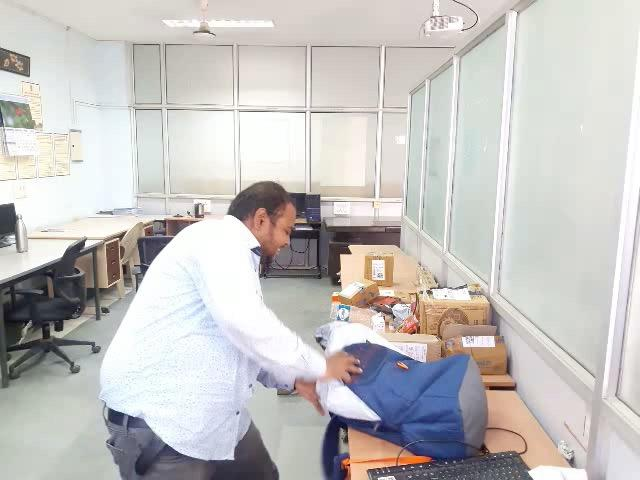shoplifting: (82, 136, 498, 476)
